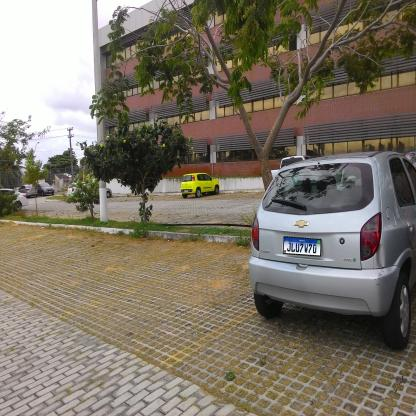PlacaM: (283, 236, 321, 256)
